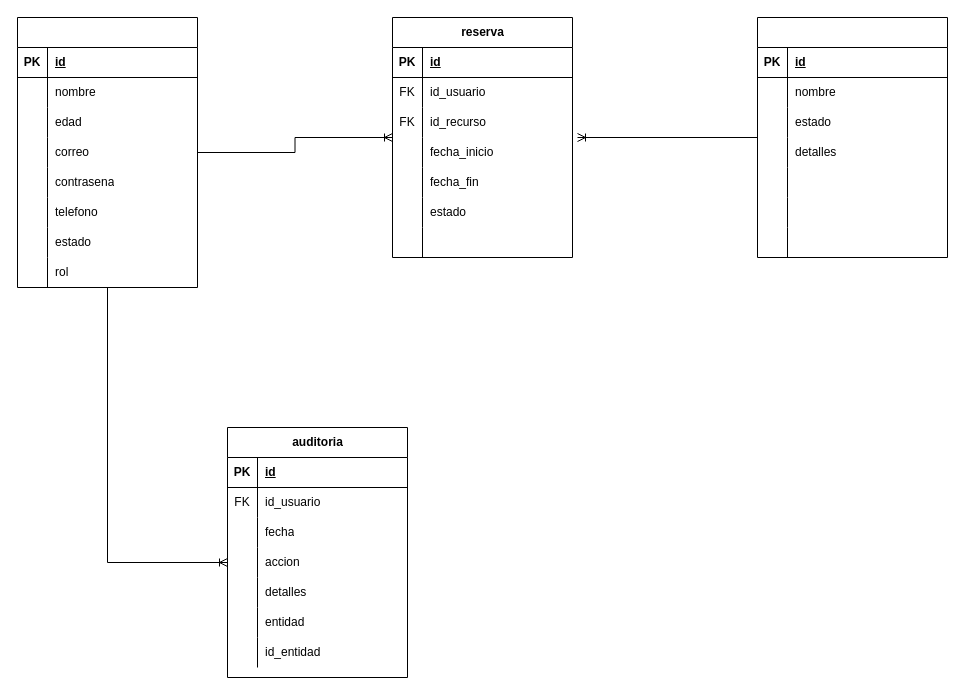
The diagram is 965 pixels wide and 695 high, and some of its shapes have lost their labels. The box of each missing label's shape, as (x1, y1, x2, y2) in pixels:
recurso: (756, 16, 948, 258)
usuario: (16, 16, 198, 288)
